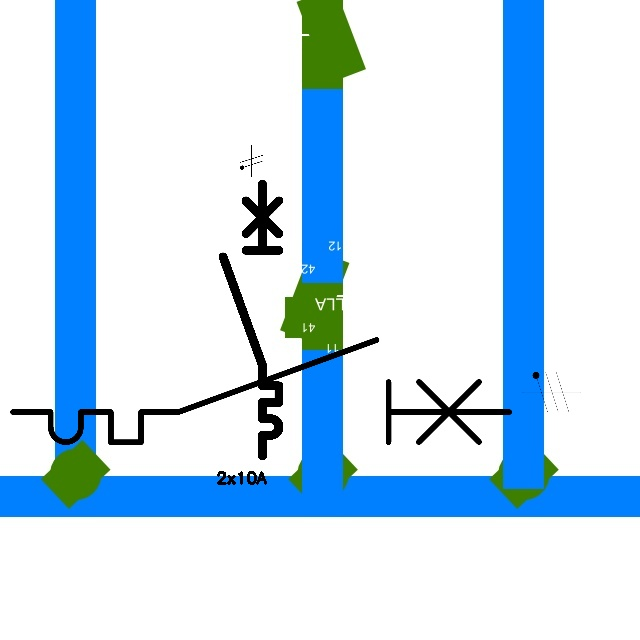interruptor_termomagnetico: (0, 327, 521, 455), (216, 177, 286, 463)
